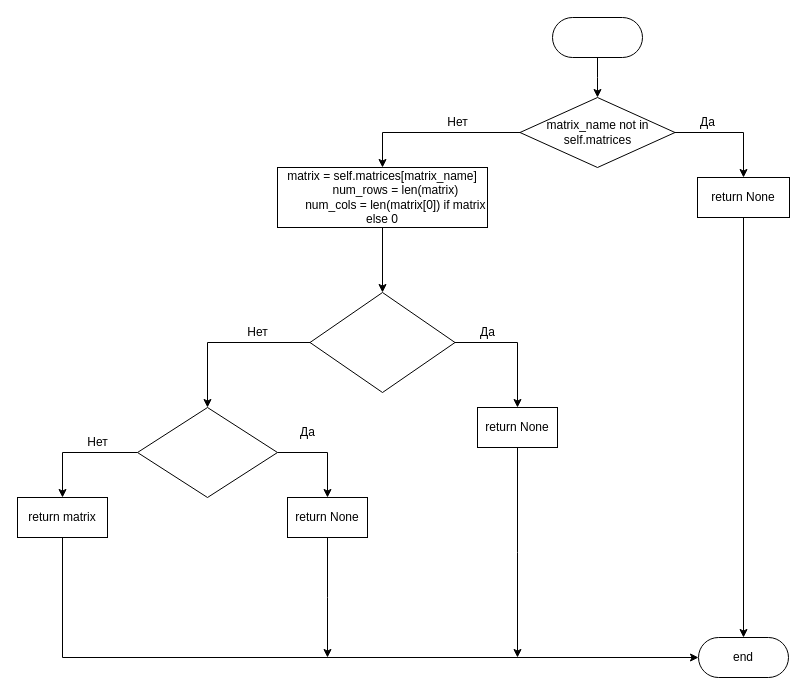
The diagram is 807 pixels wide and 695 high, and some of its shapes have lost their labels. Here are the shapes that lost their labels. From the top down, the box of each, then its label:
(552, 16, 642, 58): begin
(309, 292, 455, 392): num_rows == 0 or num_cols == 0
(136, 406, 278, 498): len(output_vector) != num_cols
